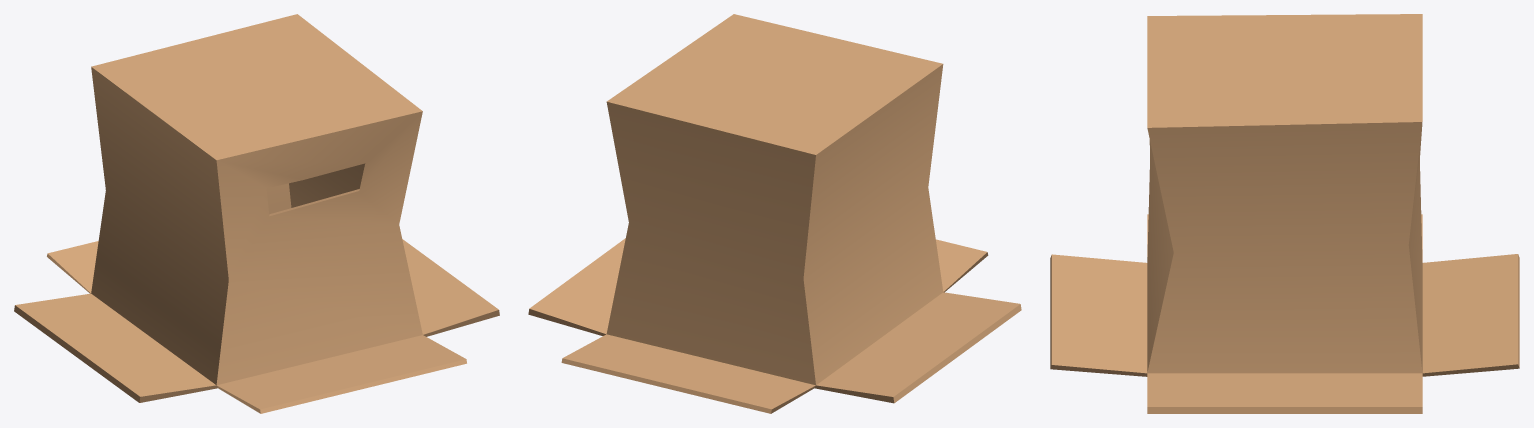
File: box hide.fbx
3 views of the same model, side by side, from view 1: azimuth 30°, elevation 25°; view 2: azimuth 150°, elevation 25°; view 3: azimuth 270°, elevation 25° (orthographic). The views are drawn at different scales.
Visible parts, largest first — view 1: box_stels; view 2: box_stels; view 3: box_stels.
Part boxes in pixels (x1,y1,x2,y2): box_stels: (14,14,499,413); box_stels: (528,14,1021,413); box_stels: (1050,14,1519,413).
Bounding box in the file's own units: 3.34 × 2.08 × 3.44.
